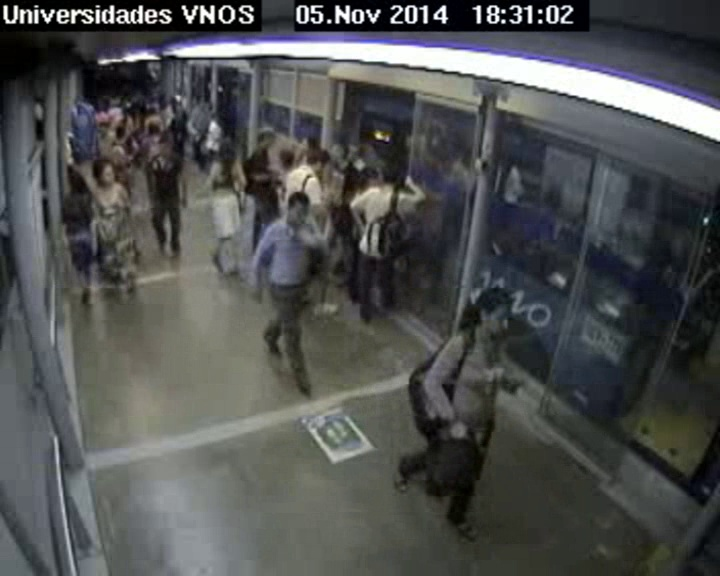person: (474, 286, 516, 336), (91, 158, 120, 189), (285, 192, 311, 222), (307, 149, 329, 172), (381, 165, 402, 189), (69, 171, 88, 195), (360, 167, 380, 189), (219, 138, 238, 160), (156, 137, 176, 157), (256, 131, 275, 152), (359, 143, 378, 162), (279, 148, 297, 167), (329, 144, 347, 163), (177, 119, 190, 133), (147, 122, 160, 135), (98, 119, 110, 133), (114, 125, 126, 139), (96, 99, 108, 112), (108, 94, 119, 106), (123, 95, 133, 108), (169, 119, 178, 130), (211, 112, 221, 121), (147, 106, 156, 115), (197, 95, 205, 104), (169, 97, 176, 104)
